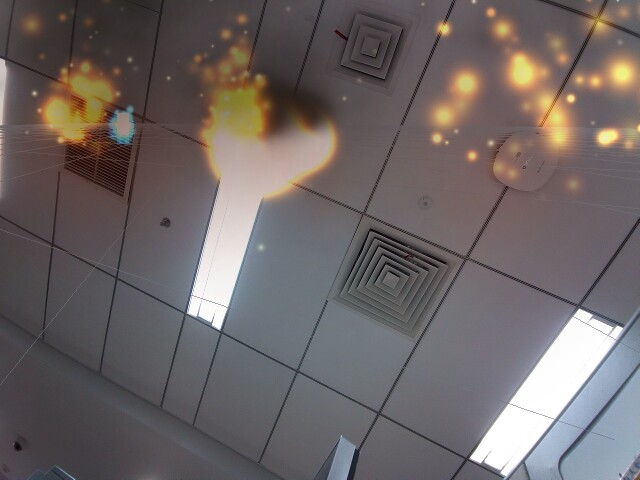fire: (207, 106, 303, 200), (283, 99, 343, 181)
